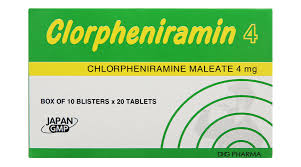Clorpheniramin: (42, 15, 241, 52)
